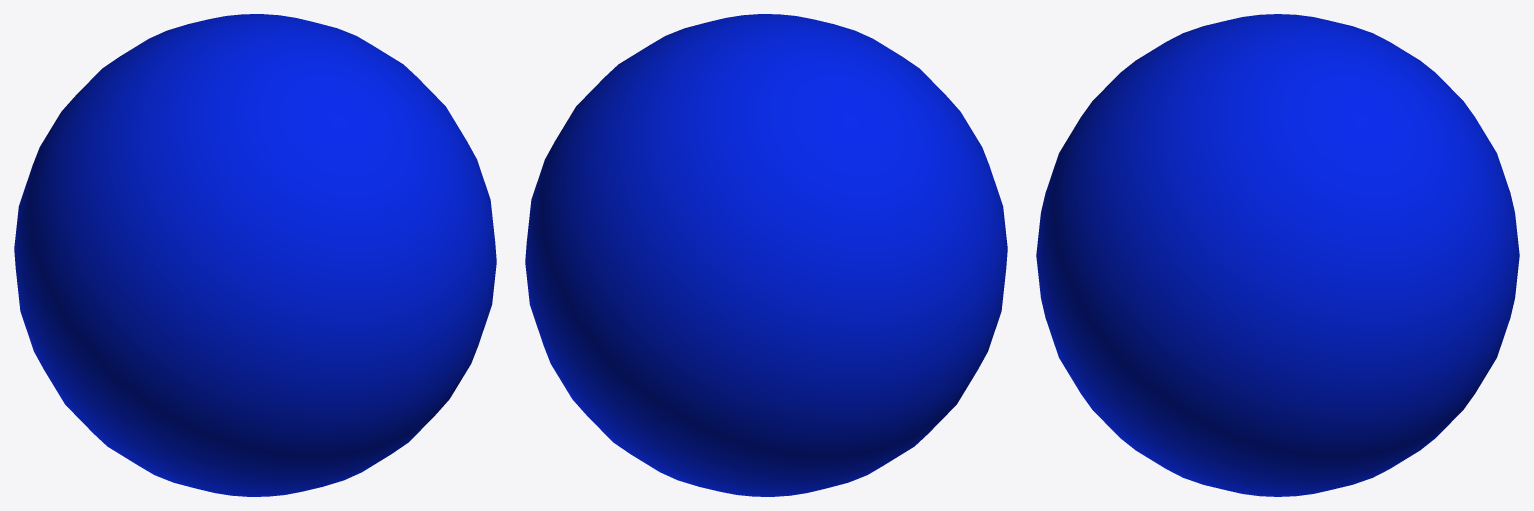
The model's file is Orbe_Square.fbx.
The picture shows the model from 3 angles, left to right: view 1: azimuth 30°, elevation 25°; view 2: azimuth 150°, elevation 25°; view 3: azimuth 270°, elevation 25°; orthographic projection.
Parts seen in each view (by area): view 1: Orbe_Square; view 2: Orbe_Square; view 3: Orbe_Square.
Part boxes in pixels (<box>): Orbe_Square: <box>14,14,496,496</box>; Orbe_Square: <box>525,14,1007,496</box>; Orbe_Square: <box>1036,14,1519,496</box>.
Size of the model in its own units: 200 by 200 by 200.
